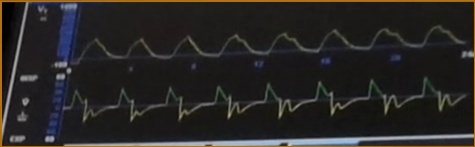Premature_cycling Flow: (68, 74, 467, 131)
Premature_cycling Volume: (79, 10, 464, 63)
